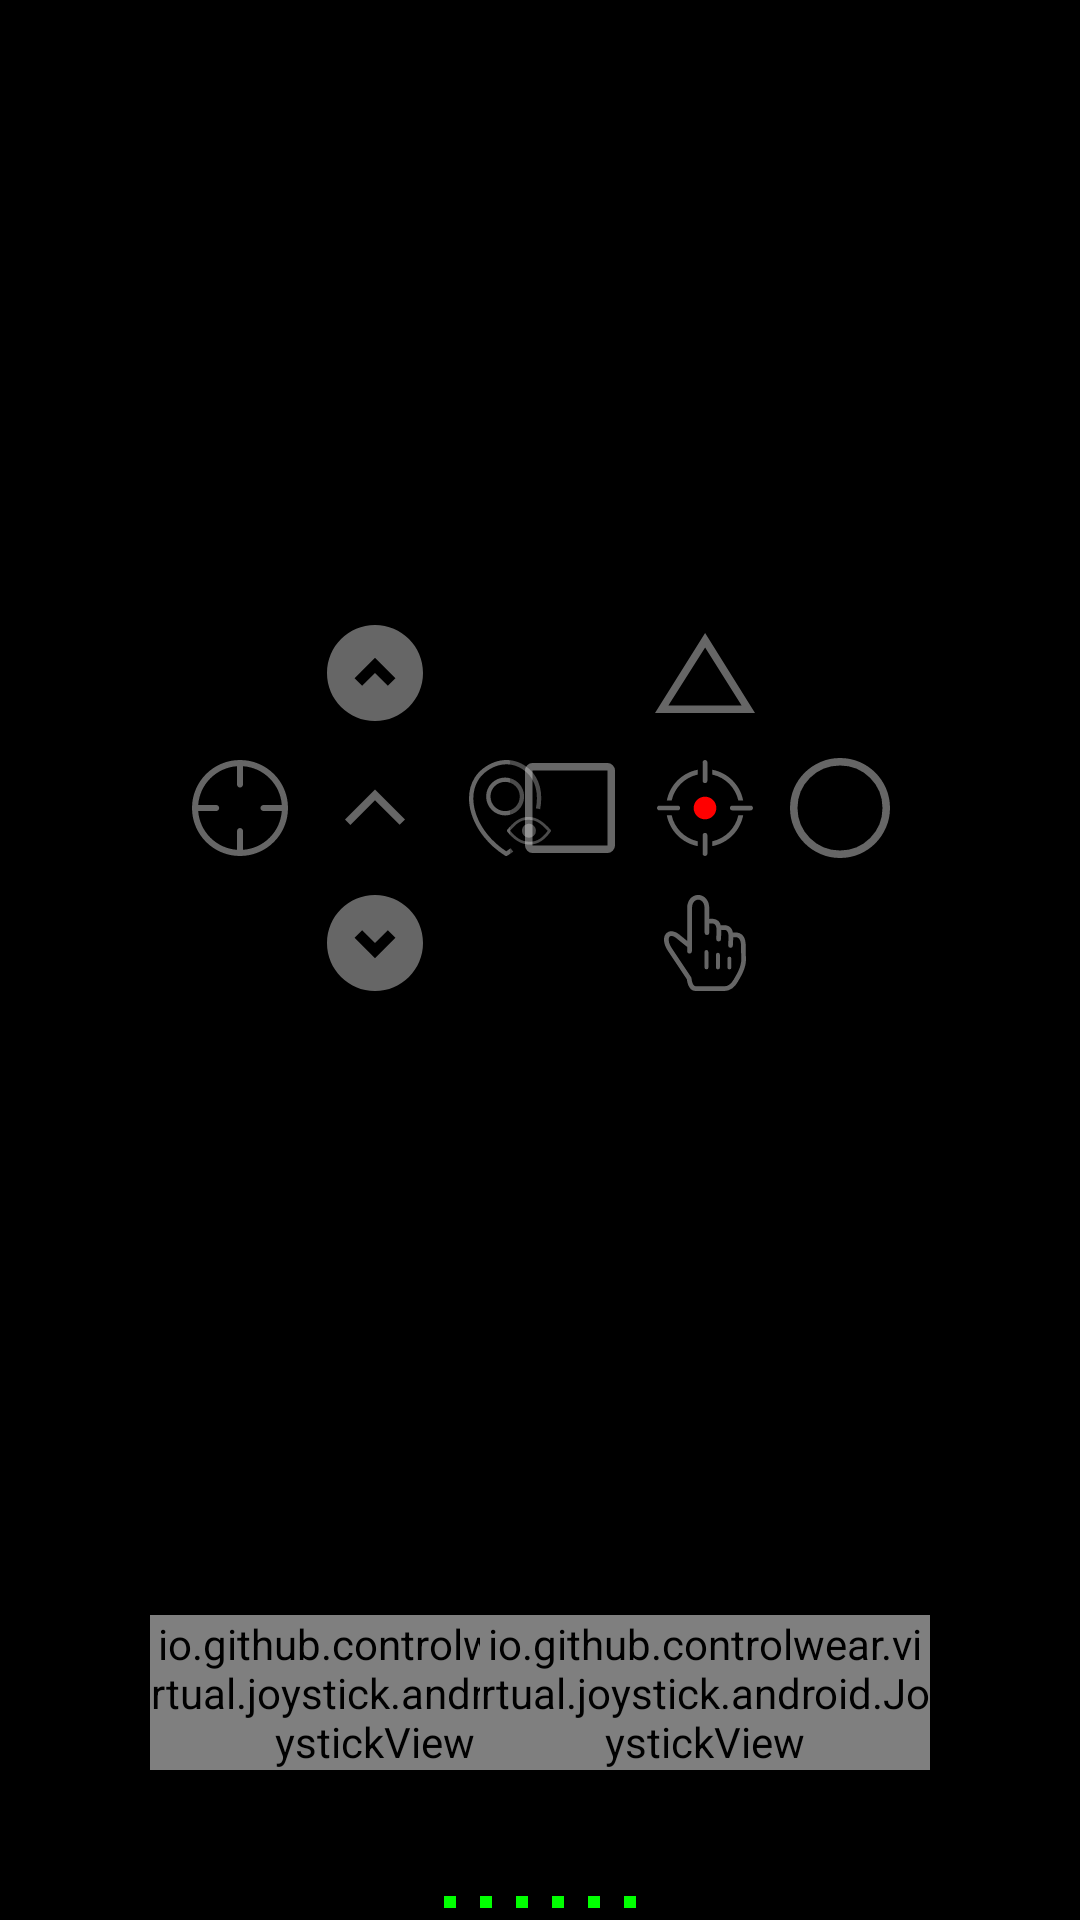

Named icons in this screenshot (1080px×1920px) and their bounding boxes, (left=x1, top=y1, right=x2, bottom=y2):
Aim: (left=192, top=760, right=288, bottom=856)
circle: (left=790, top=758, right=890, bottom=858)
crouch: (left=327, top=895, right=423, bottom=991)
interact: (left=664, top=895, right=746, bottom=991)
Jump: (left=327, top=625, right=423, bottom=721)
shoot: (left=657, top=760, right=753, bottom=856)
triangle button: (left=655, top=633, right=755, bottom=713)
